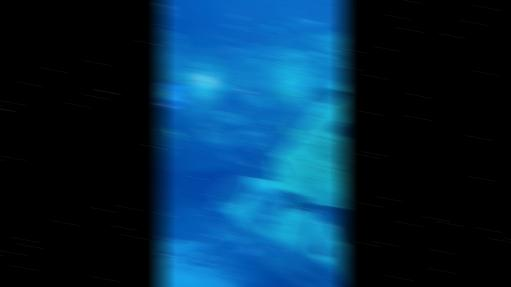Fish: (287, 10, 326, 32), (287, 192, 314, 212), (330, 207, 345, 242), (313, 89, 344, 103), (276, 88, 295, 101), (281, 122, 294, 138), (211, 203, 236, 211), (272, 149, 283, 167), (332, 121, 345, 136), (315, 244, 328, 255), (263, 255, 276, 266), (265, 24, 280, 33), (170, 127, 179, 140), (247, 138, 258, 148), (228, 24, 239, 29), (231, 15, 242, 20), (243, 162, 254, 167), (170, 41, 179, 47), (163, 11, 172, 16), (278, 21, 287, 26), (159, 5, 170, 9), (250, 120, 261, 124), (222, 37, 233, 41), (197, 131, 206, 135), (248, 27, 255, 31), (159, 131, 166, 133)
